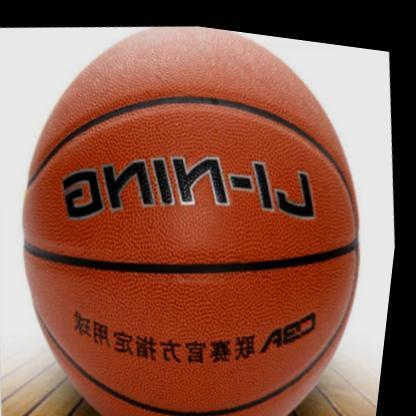basketball: (0, 2, 408, 416)
